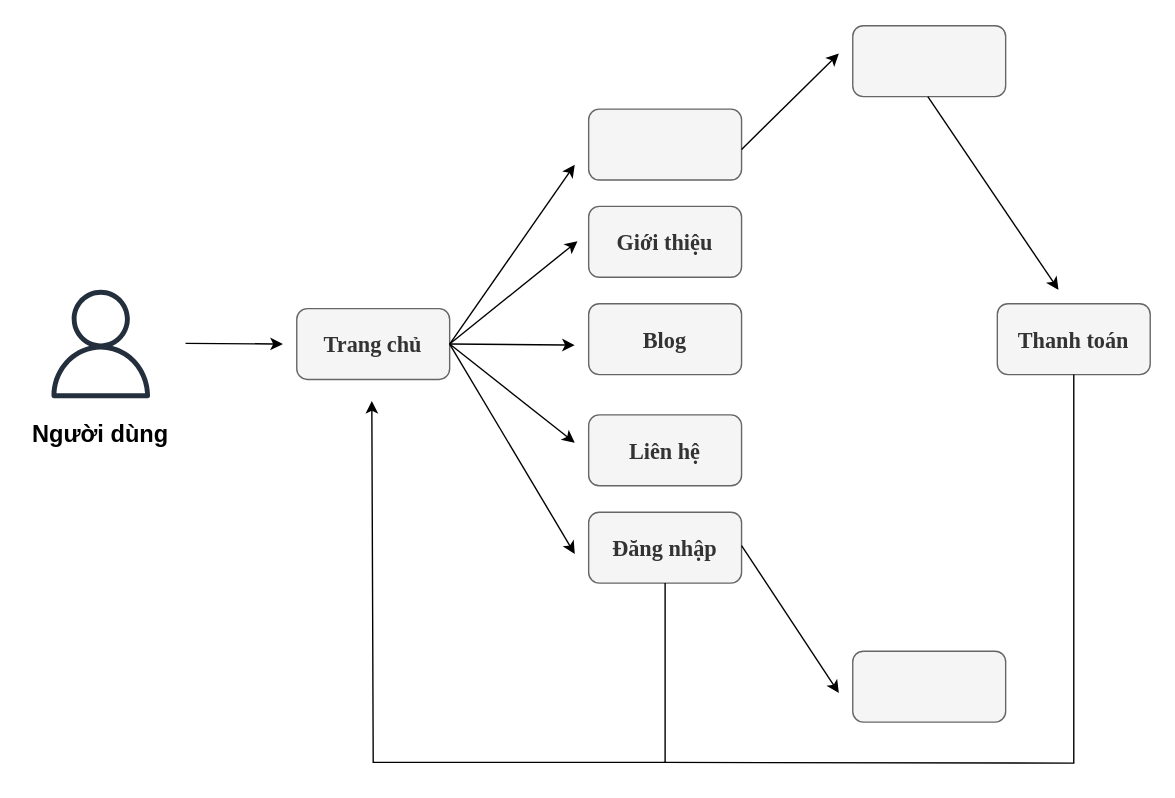
Some shapes in this 1175 by 798 pixel diagram are drawn without their labels. The centre of each missing label's shape, as x and y in pixels:
"Chi tiết sản phẩm" belongs at point 664,144.
"Giỏ hàng" belongs at point 928,60.
"Đăng ký" belongs at point 928,686.
